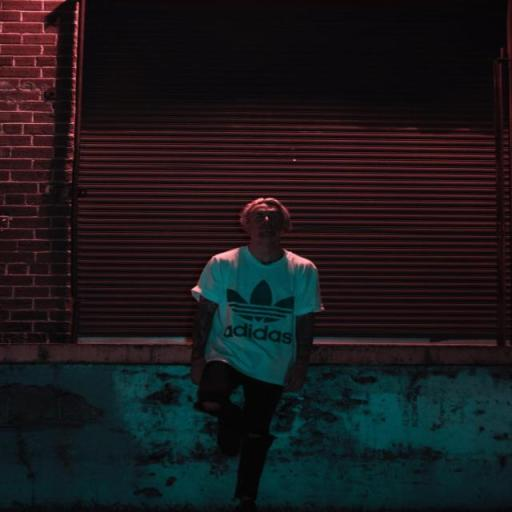Adidas: (221, 278, 296, 346)
